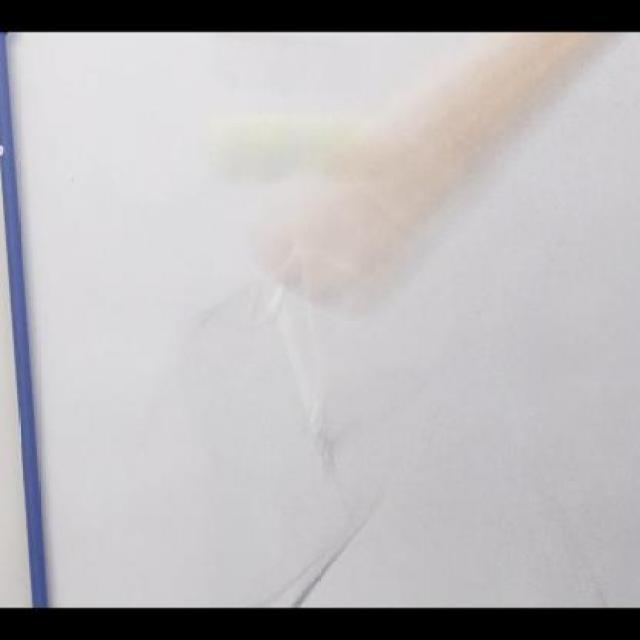baseball: (208, 115, 374, 179)
